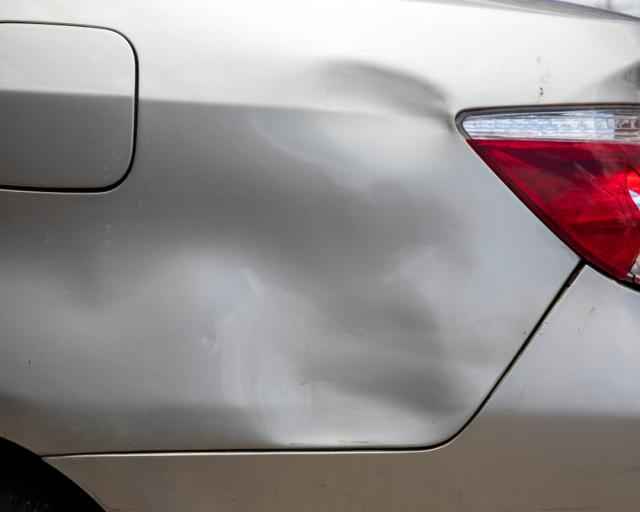dent: (0, 160, 470, 450), (290, 56, 451, 178)
lamp broken: (463, 106, 640, 285)
